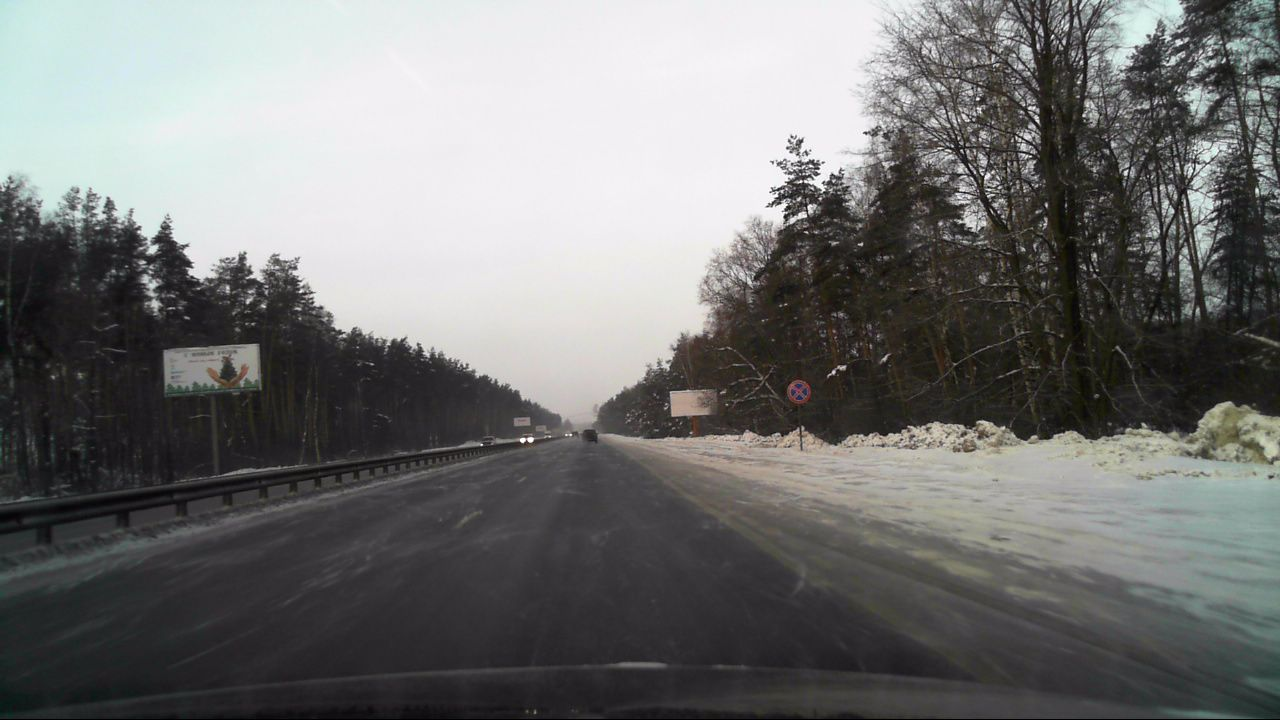No Parking: (787, 379, 811, 406)
